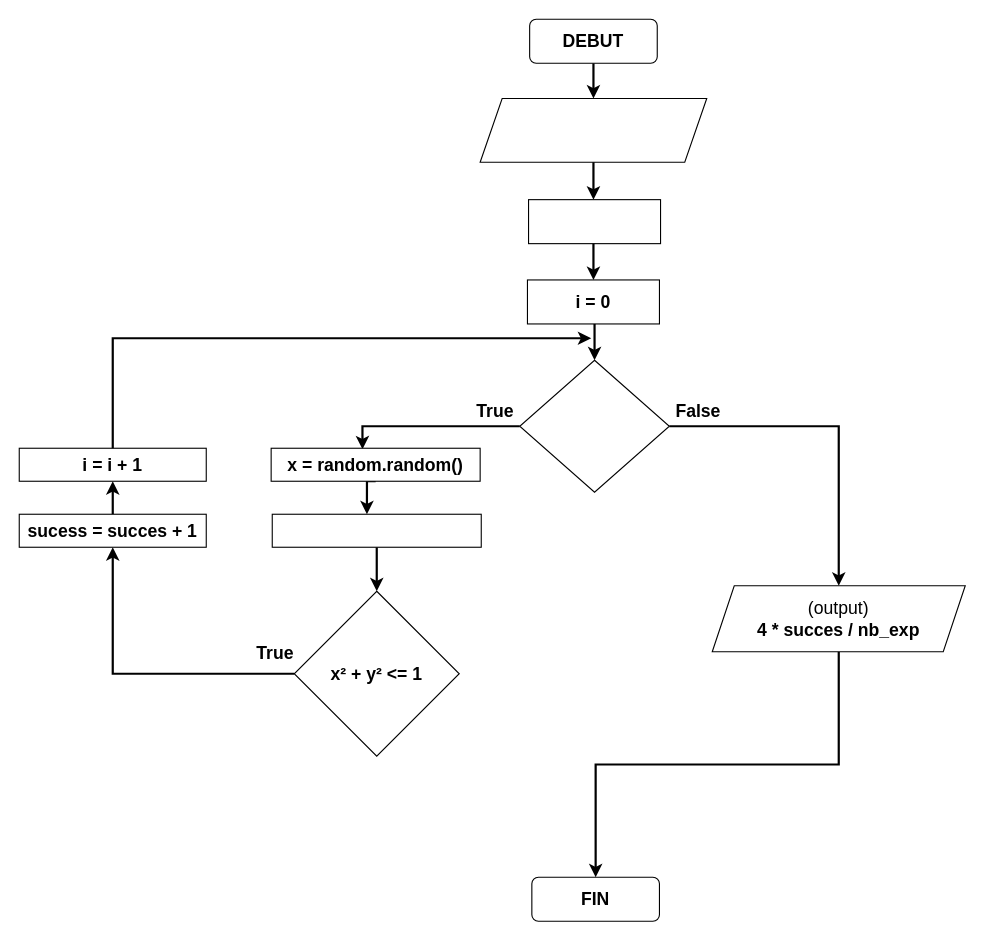
This 985x941 diagram has some shape labels left out. Here are the shapes that lost their labels. From the top down, the box of each, then its label:
(479, 97, 707, 162): (input) nb_exp
(527, 199, 661, 244): succes = 0
(519, 359, 669, 492): i < nb_exp
(271, 513, 481, 547): y = random.random()
